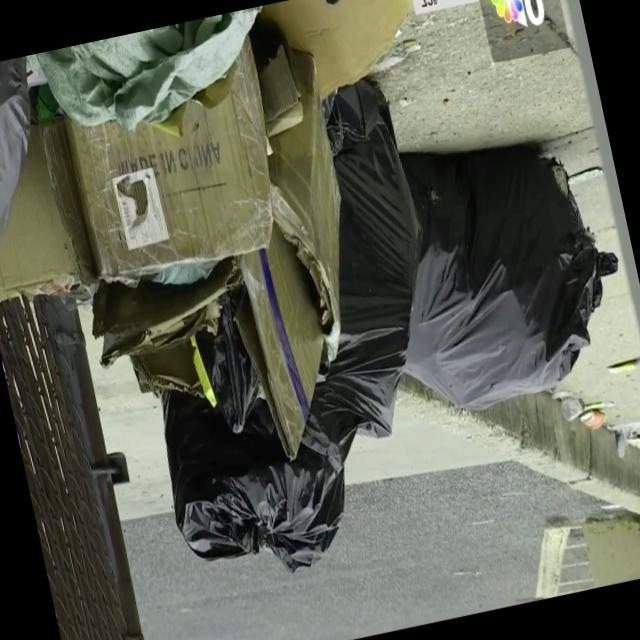high trash: (0, 0, 616, 567)
less trash: (552, 390, 614, 430), (609, 421, 640, 458), (608, 358, 640, 374)
